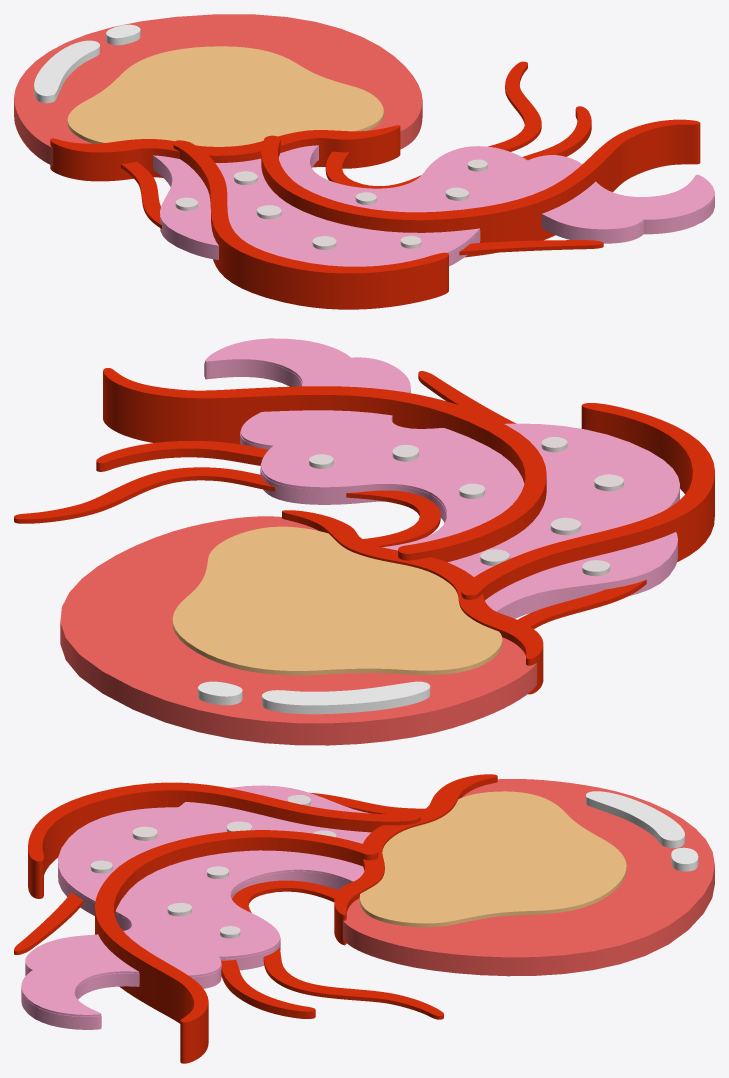
The model's file is emoji_u1fabc.glb.
3 renders of one model, top to bottom at view 1: azimuth 30°, elevation 25°; view 2: azimuth 150°, elevation 25°; view 3: azimuth 270°, elevation 25°, orthographic. The views are drawn at different scales.
Parts seen in each view (by area): view 1: emoji_u1fabc; view 2: emoji_u1fabc; view 3: emoji_u1fabc.
Part boxes in pixels (bbox=[...]): emoji_u1fabc: bbox=[14, 14, 714, 309]; emoji_u1fabc: bbox=[14, 338, 714, 745]; emoji_u1fabc: bbox=[14, 774, 714, 1063].
Size of the model in its own units: 0.0291 by 0.0022 by 0.0338.
